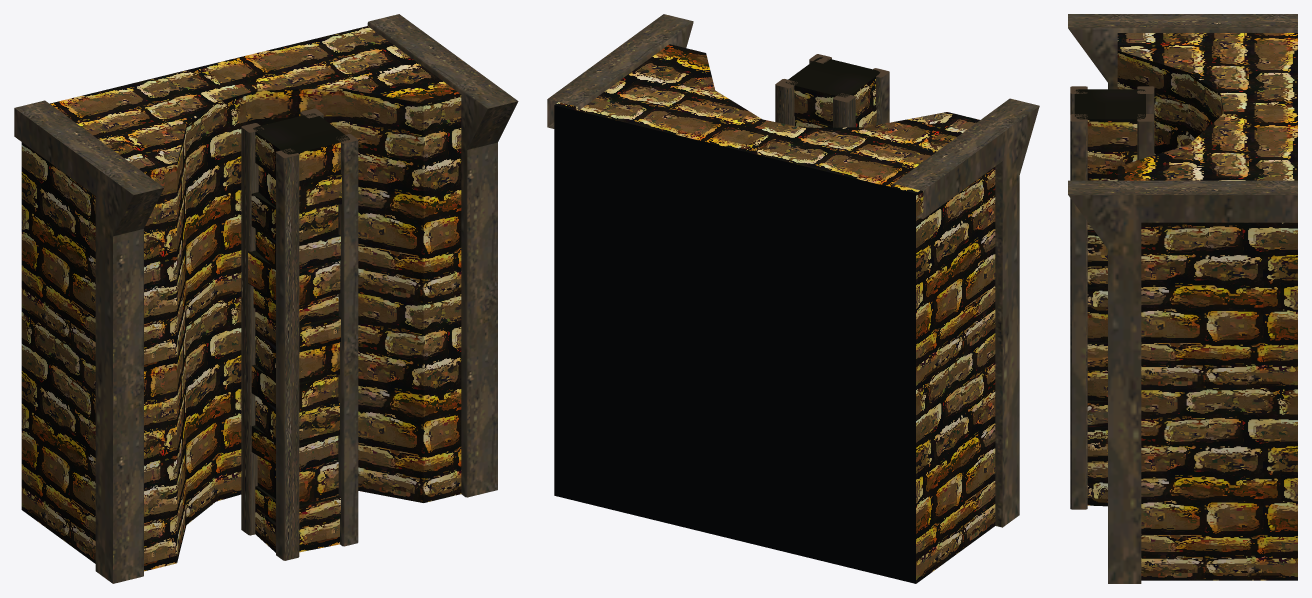
The model's file is stoneWallG.fbx.
3 views of the same model, side by side, from view 1: azimuth 30°, elevation 25°; view 2: azimuth 150°, elevation 25°; view 3: azimuth 270°, elevation 25° (orthographic). The views are drawn at different scales.
Visible parts, largest first — view 1: stoneWallG; view 2: stoneWallG; view 3: stoneWallG.
Boxes of the visible parts, x1=… form: stoneWallG: x1=14, y1=14, x2=518, y2=583; stoneWallG: x1=547, y1=14, x2=1039, y2=583; stoneWallG: x1=1068, y1=14, x2=1297, y2=583.
Size of the model in its own units: 300 by 301 by 161.
